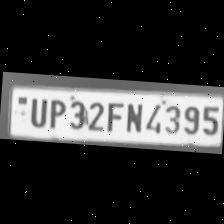2: (85, 97, 105, 131)
3: (65, 96, 87, 130), (161, 100, 181, 132)
4: (144, 99, 162, 133)
5: (198, 101, 220, 135)
9: (178, 100, 200, 134)
F: (102, 97, 122, 130)
N: (122, 98, 144, 132)
P: (44, 94, 66, 128)
U: (25, 93, 47, 126)
